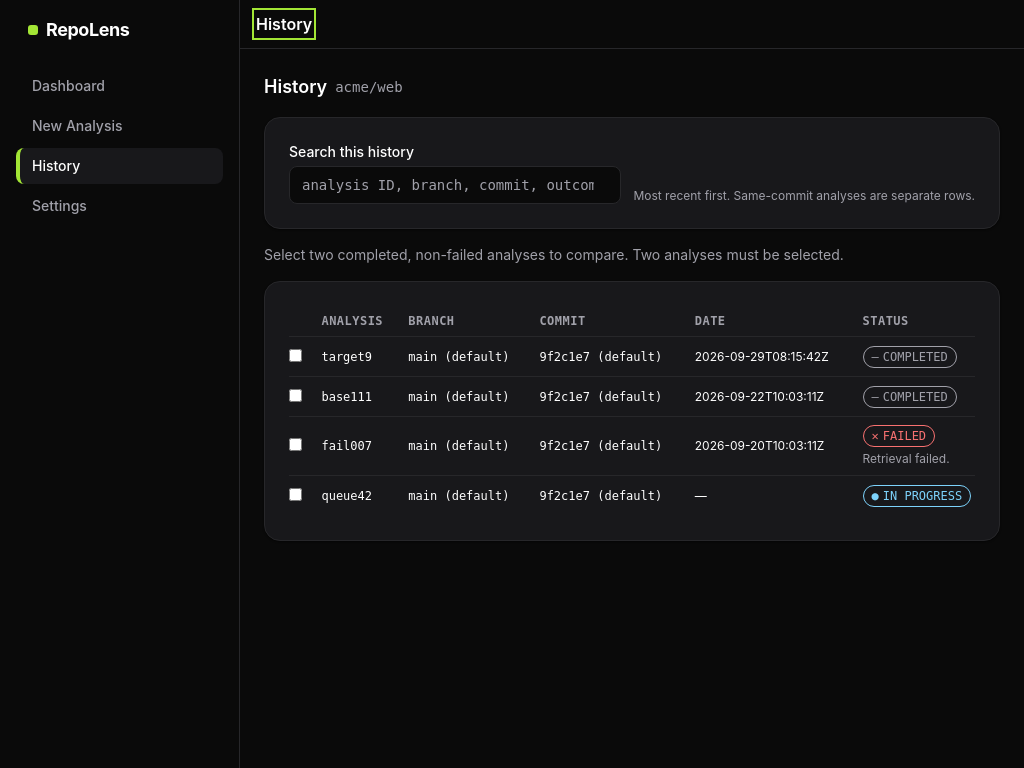
Scenario: History page › blocks non-terminal selections with an explanation
Check: the text "acme/web" is shown, box left=335, top=77, right=403, bottom=97
Click the checkbox named "Select analysis queue42 for comparison": (296, 495) left=289, top=488, right=302, bottom=501
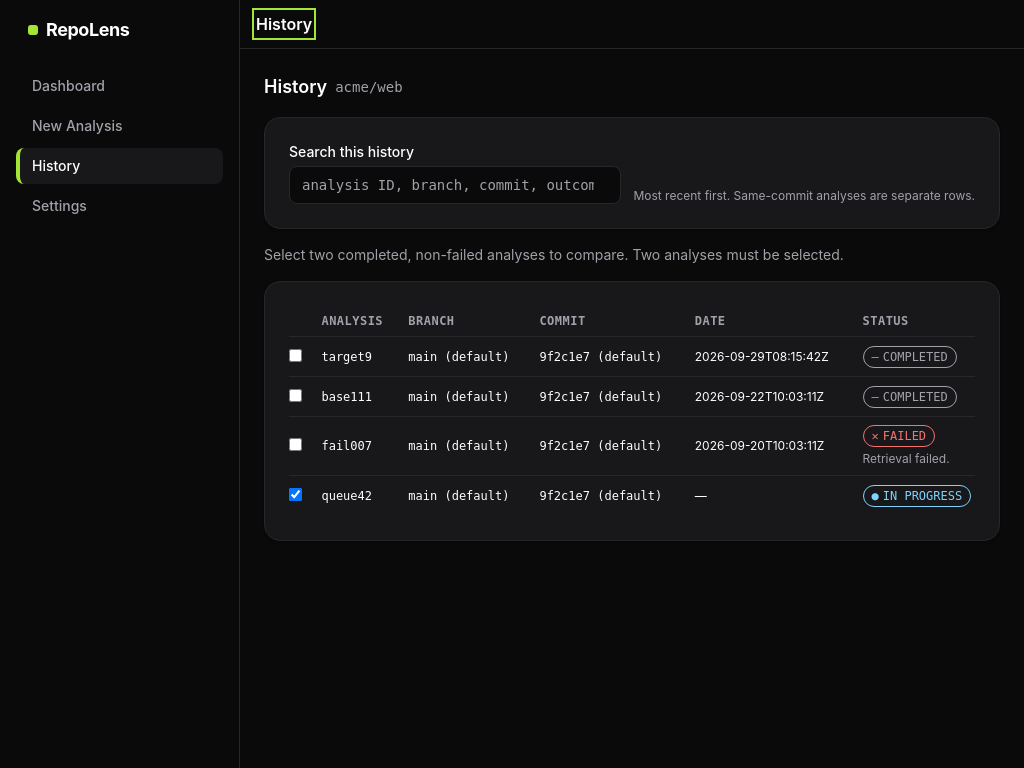
Click the checkbox named "Select analysis target9 for comparison": (296, 355) left=289, top=349, right=302, bottom=362
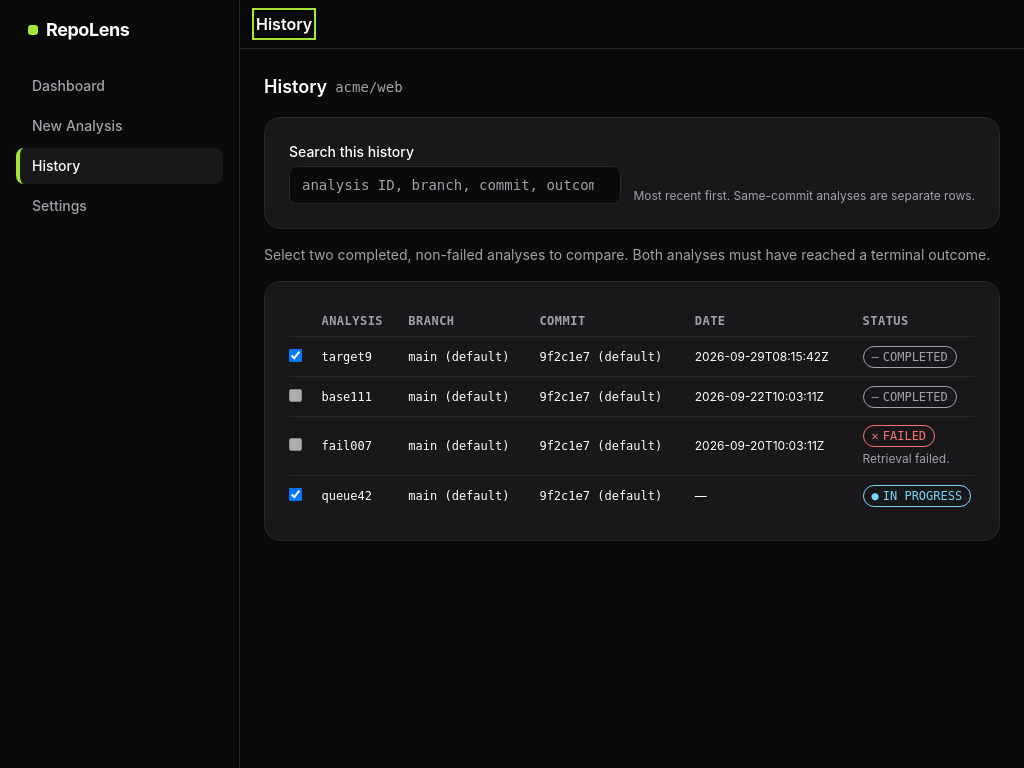
Check: the text "terminal outcome" is shown, box left=632, top=246, right=990, bottom=263
